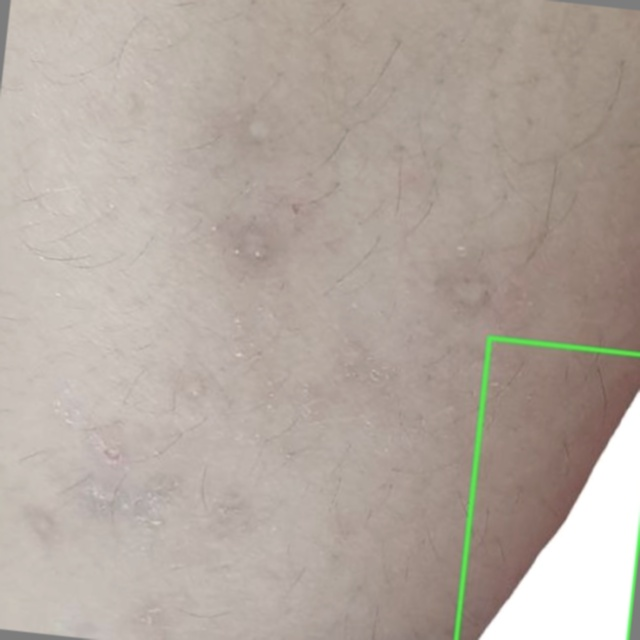Scabies: (456, 337, 639, 639)
